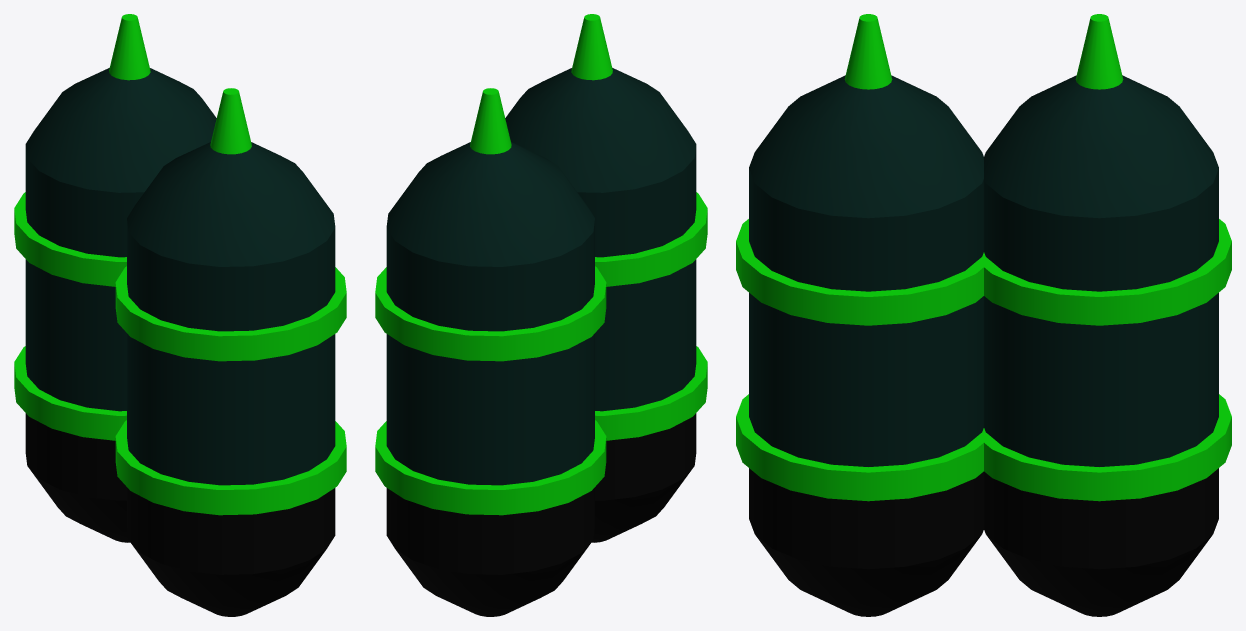
File: Oxygen_Tanks.fbx
3 renders of one model, left to right at view 1: azimuth 30°, elevation 25°; view 2: azimuth 150°, elevation 25°; view 3: azimuth 270°, elevation 25°, orthographic. The views are drawn at different scales.
Parts seen in each view (by area): view 1: Oxygen_Tanks; view 2: Oxygen_Tanks; view 3: Oxygen_Tanks.
Part boxes in pixels (left/top/right/bottom): Oxygen_Tanks: left=14, top=14, right=346, bottom=616; Oxygen_Tanks: left=375, top=14, right=707, bottom=616; Oxygen_Tanks: left=736, top=14, right=1231, bottom=616.
Bounding box in the file's own units: 0.3183 × 0.5958 × 0.7808.
